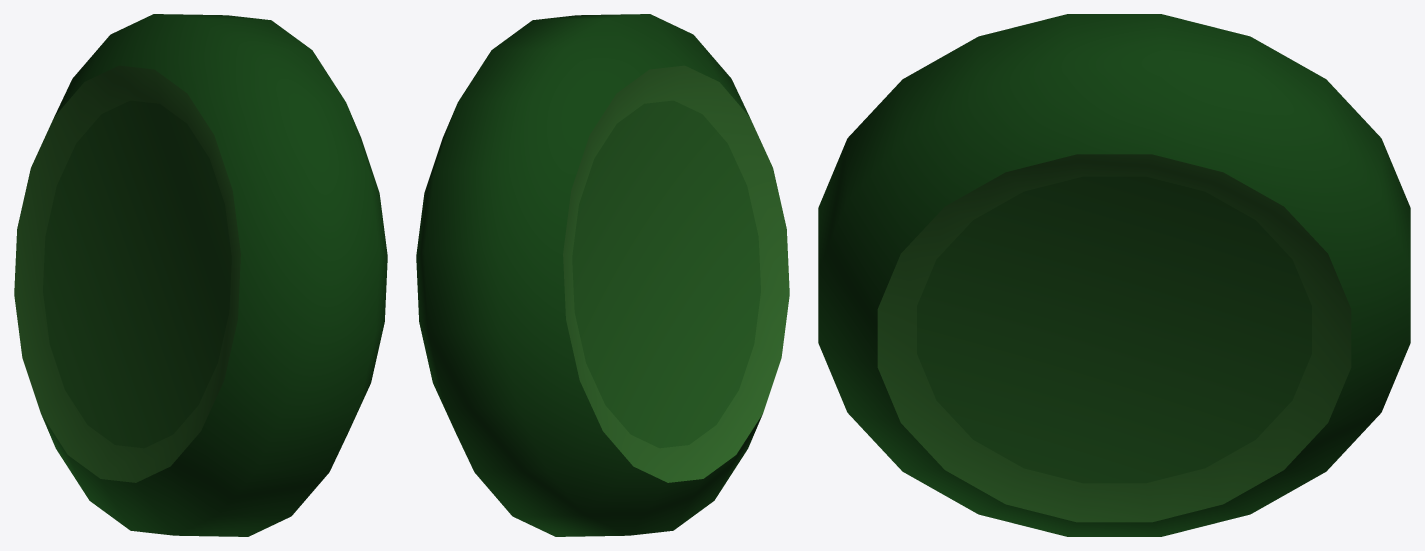
File: tyrian10-1-f3.glb
The picture shows the model from 3 angles, left to right: view 1: azimuth 30°, elevation 25°; view 2: azimuth 150°, elevation 25°; view 3: azimuth 270°, elevation 25°; orthographic projection. The views are drawn at different scales.
Parts seen in each view (by area): view 1: tyrian10-1-f3; view 2: tyrian10-1-f3; view 3: tyrian10-1-f3.
Boxes of the visible parts, x1,y1,x2,y2 form: tyrian10-1-f3: (14,14,387,536); tyrian10-1-f3: (416,14,789,536); tyrian10-1-f3: (818,14,1410,536).
Bounding box in the file's own units: 0.3859 × 0.749 × 0.7408.
